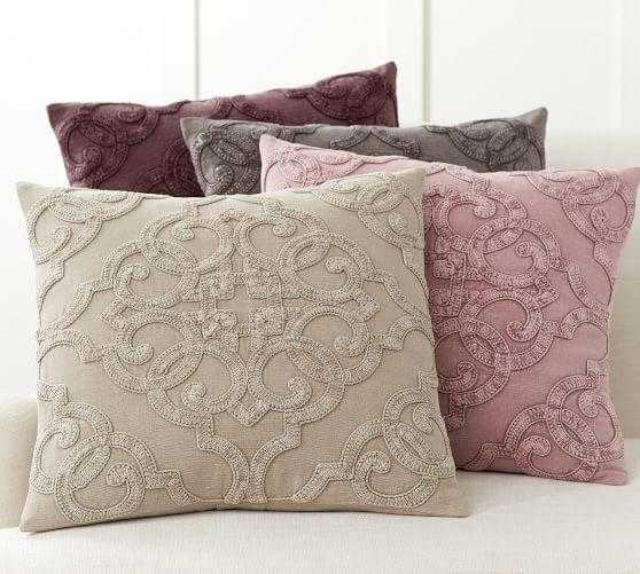pillow: (14, 168, 470, 532), (45, 60, 399, 196), (178, 106, 548, 196)
